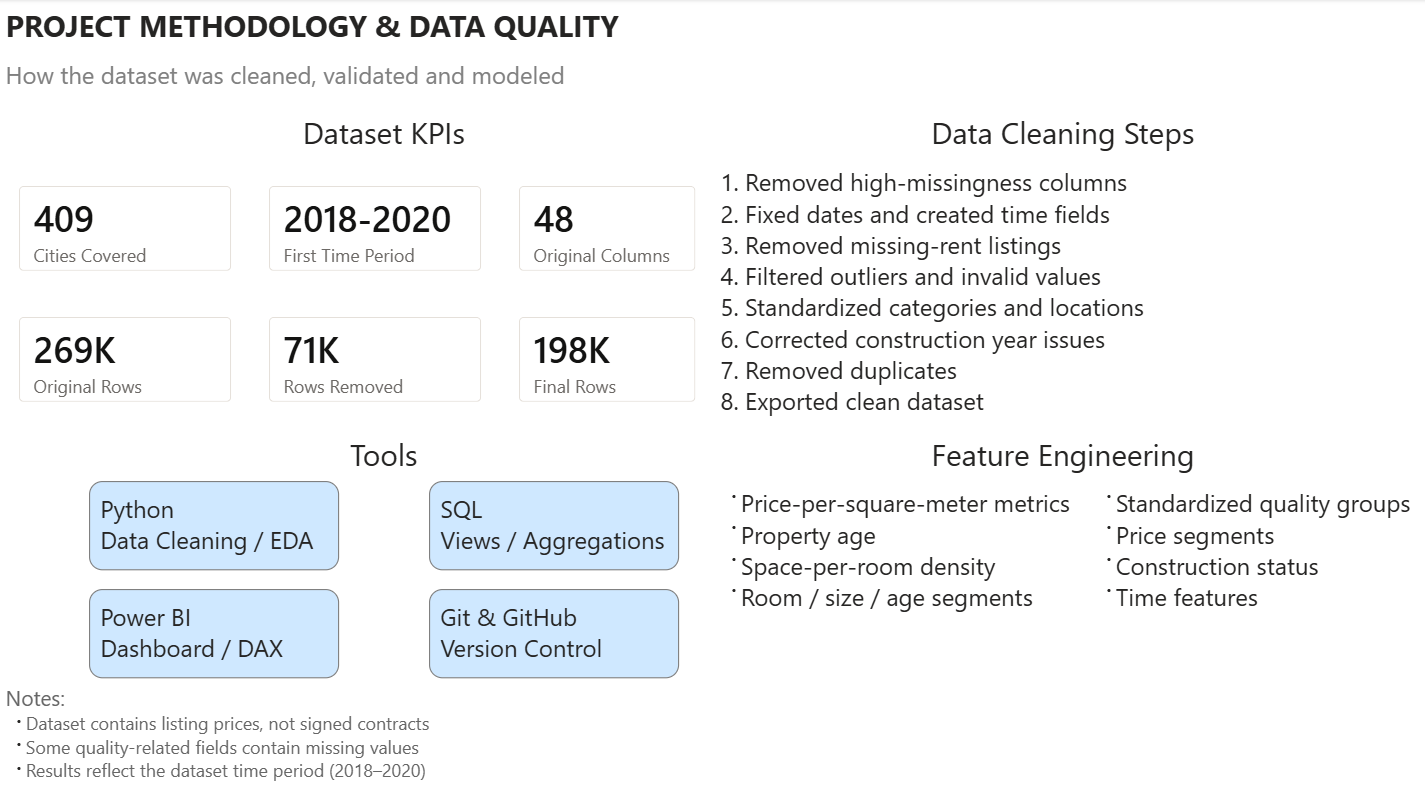

The dashboard page shown, as its layout file describes it:
{"tool":"powerbi","page":{"name":"Methodology / Data Quality","canvas":[1280,720],"ordinal":3},"visuals":[{"type":"textbox","box":[0,0,576,48],"z":0},{"type":"textbox","box":[0,48,1280,48],"z":1000},{"type":"cardVisual","fields":{"Data":["Max(project_kpi_wide.Cities Covered)"]},"box":[0,150.2,224,110],"z":2000},{"type":"textbox","box":[640,144,624,240],"z":3000},{"type":"textbox","box":[688,96,528,48],"z":4000},{"type":"textbox","box":[640,432,336,128],"z":5000},{"type":"textbox","box":[688,384,528,48],"z":6000},{"type":"cardVisual","fields":{"Data":["Min(project_kpi_wide.Original Rows)"]},"box":[0,267.6,224,110],"z":7000},{"type":"cardVisual","fields":{"Data":["Sum(project_kpi_wide.Final Rows)"]},"box":[448,267.6,192,110],"z":8000},{"type":"cardVisual","fields":{"Data":["Min(project_kpi_wide.Time Period)"]},"box":[224,150.2,224,110],"z":9000},{"type":"cardVisual","fields":{"Data":["Sum(project_kpi_wide.Rows Removed)"]},"box":[224,267.6,224,110],"z":10000},{"type":"cardVisual","fields":{"Data":["Sum(project_kpi_wide.Original Columns)"]},"box":[448,150.2,192,110],"z":11000},{"type":"textbox","box":[80,96,528,48],"z":12000},{"type":"textbox","box":[976,432,304,128],"z":13000},{"type":"textbox","box":[80,432,224,80],"z":14000},{"type":"textbox","box":[80,384,528,48],"z":15000},{"type":"textbox","box":[384,432,224,80],"z":16000},{"type":"textbox","box":[0,608,1280,112],"z":16500},{"type":"textbox","box":[80,528,224,80],"z":17000},{"type":"textbox","box":[384,528,224,80],"z":19000}]}

Visuals, with their boxes in screenshot pixels (x1, y1, x2, y2), scaled from the page's 1280x720 canvas onto the 1425x800 screenshot:
textbox: left=0, top=0, right=641, bottom=53
textbox: left=0, top=53, right=1424, bottom=107
cardVisual - Max(project_kpi_wide.Cities Covered): left=0, top=167, right=249, bottom=289
textbox: left=712, top=160, right=1407, bottom=427
textbox: left=766, top=107, right=1354, bottom=160
textbox: left=712, top=480, right=1087, bottom=622
textbox: left=766, top=427, right=1354, bottom=480
cardVisual - Min(project_kpi_wide.Original Rows): left=0, top=297, right=249, bottom=420
cardVisual - Sum(project_kpi_wide.Final Rows): left=499, top=297, right=712, bottom=420
cardVisual - Min(project_kpi_wide.Time Period): left=249, top=167, right=499, bottom=289
cardVisual - Sum(project_kpi_wide.Rows Removed): left=249, top=297, right=499, bottom=420
cardVisual - Sum(project_kpi_wide.Original Columns): left=499, top=167, right=712, bottom=289
textbox: left=89, top=107, right=677, bottom=160
textbox: left=1087, top=480, right=1424, bottom=622
textbox: left=89, top=480, right=338, bottom=569
textbox: left=89, top=427, right=677, bottom=480
textbox: left=428, top=480, right=677, bottom=569
textbox: left=0, top=676, right=1424, bottom=799
textbox: left=89, top=587, right=338, bottom=676
textbox: left=428, top=587, right=677, bottom=676
